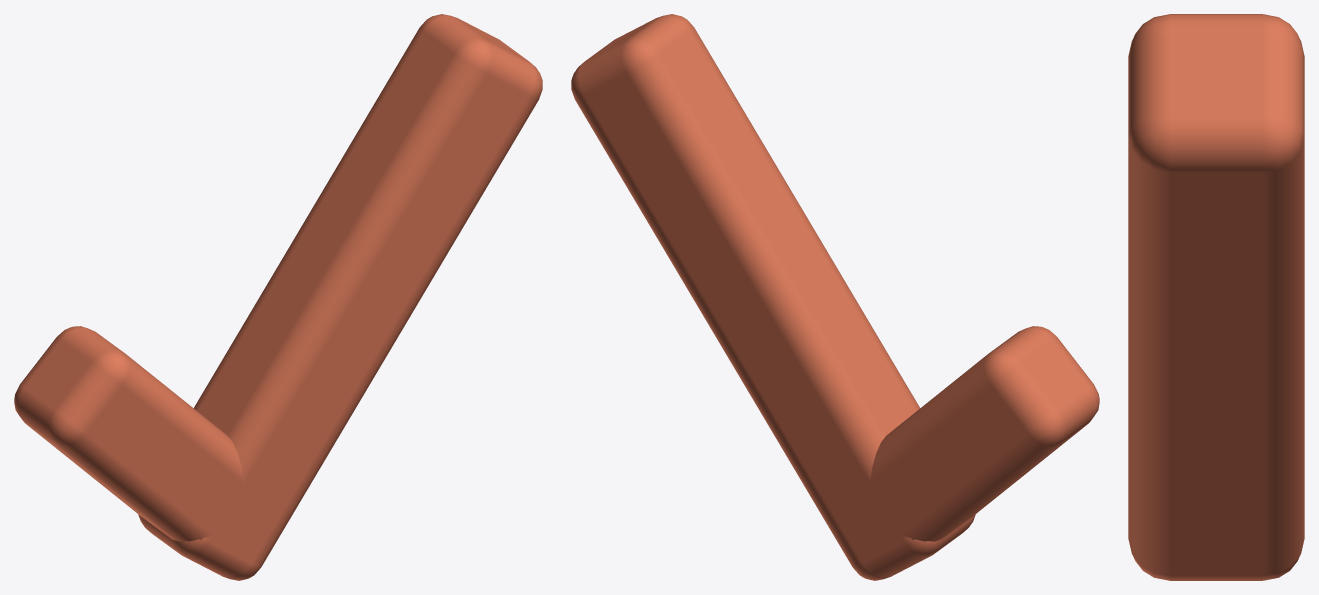
The model's file is check.glb.
3 renders of one model, left to right at view 1: azimuth 30°, elevation 25°; view 2: azimuth 150°, elevation 25°; view 3: azimuth 270°, elevation 25°, orthographic. The views are drawn at different scales.
Parts seen in each view (by area): view 1: mark_long, mark_short; view 2: mark_long, mark_short; view 3: mark_long.
Part boxes in pixels (<box>): mark_long: <box>138,14,542,580</box>; mark_short: <box>14,326,272,547</box>; mark_long: <box>571,14,975,580</box>; mark_short: <box>841,326,1099,553</box>; mark_long: <box>1128,14,1304,580</box>.
Size of the model in its own units: 0.9613 by 0.9006 by 0.1959.
